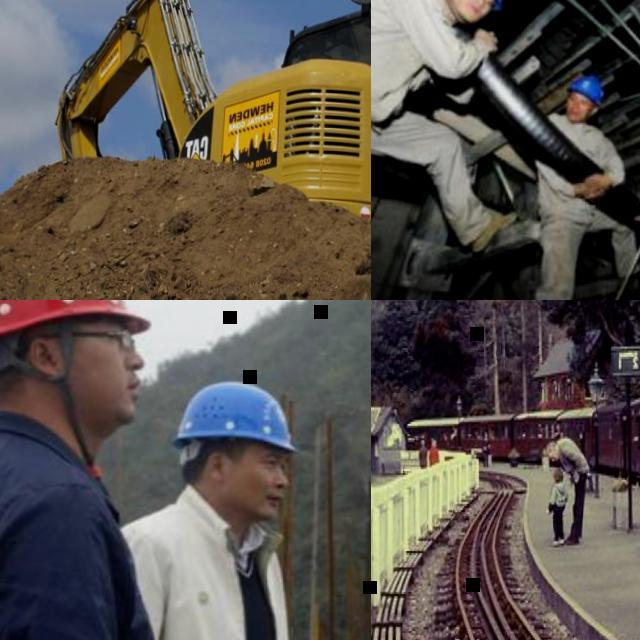helmet: (170, 380, 300, 455), (0, 300, 149, 356), (563, 76, 605, 109)
